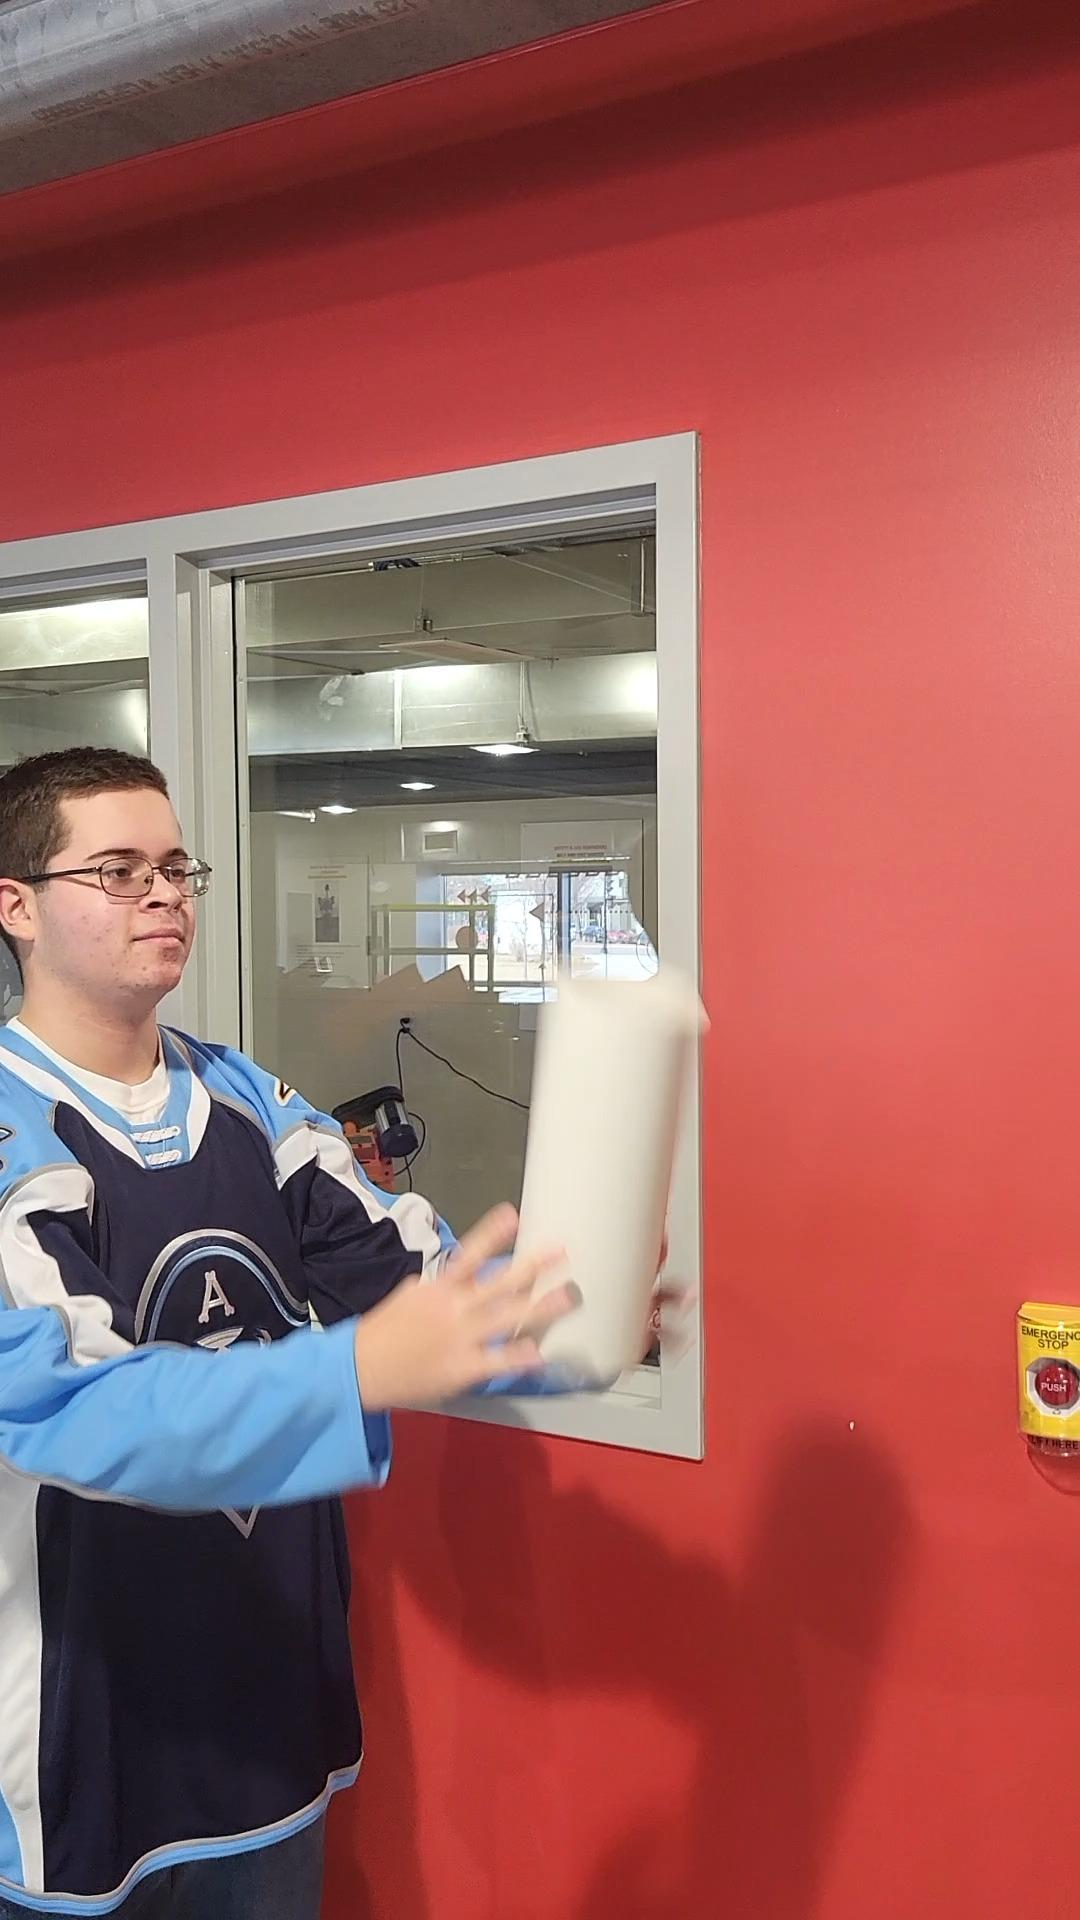coral: (500, 944, 713, 1379)
